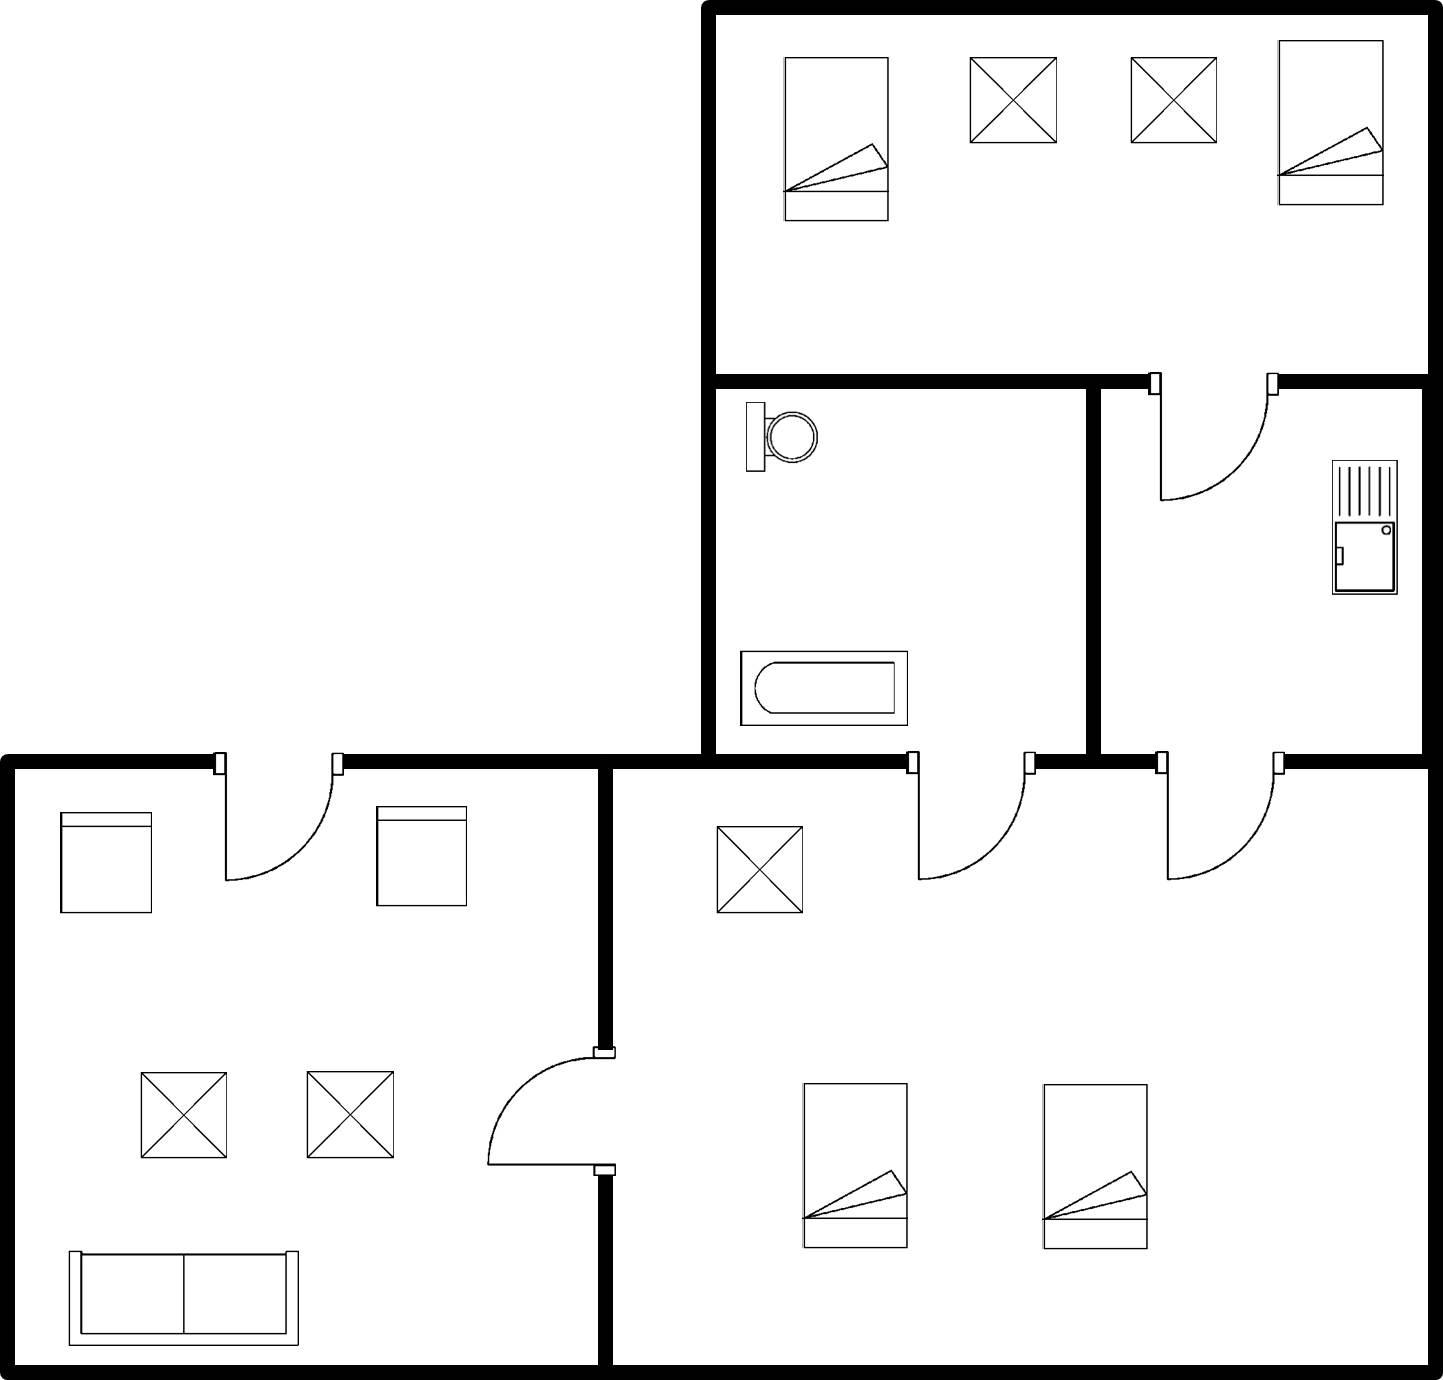bed: (768, 49, 901, 235), (792, 1072, 919, 1264), (1029, 1072, 1157, 1261), (1264, 27, 1391, 215)
sink: (1323, 448, 1410, 600)
sofa: (58, 1238, 311, 1353)
toilet: (733, 396, 826, 487)
tub: (731, 637, 919, 737)
